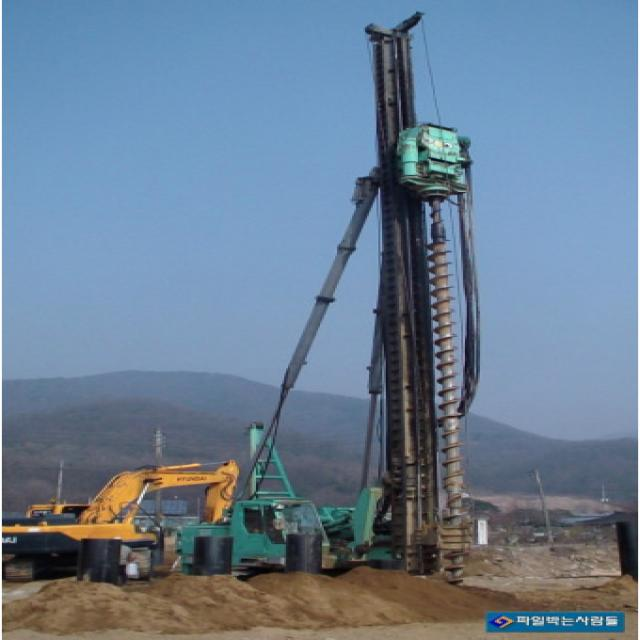excavator: (0, 460, 241, 585)
pile: (425, 240, 470, 584)
